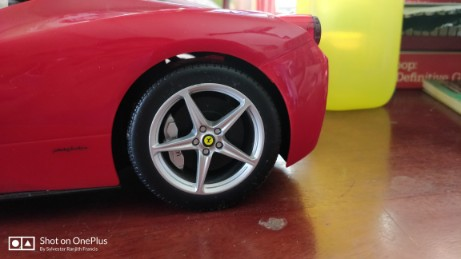aligned_wheel: (119, 57, 284, 216)
